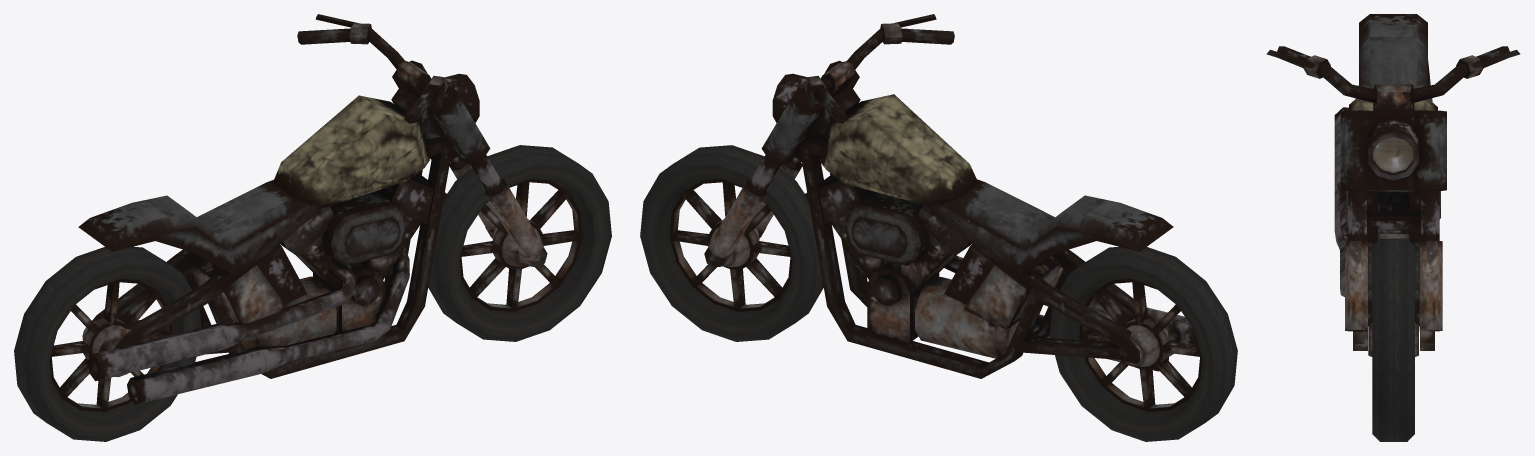
The model's file is ps2_styled_old_motorcycle.glb.
The picture shows the model from 3 angles, left to right: view 1: azimuth 30°, elevation 25°; view 2: azimuth 150°, elevation 25°; view 3: azimuth 270°, elevation 25°; orthographic projection.
Visible parts, largest first — view 1: final_0; view 2: final_0; view 3: final_0.
Boxes of the visible parts, left/top/right/bottom form: final_0: left=14, top=14, right=611, bottom=441; final_0: left=640, top=14, right=1237, bottom=441; final_0: left=1266, top=14, right=1520, bottom=441.
Bounding box in the file's own units: 2.49 × 1.27 × 0.9238.
1 material, 1 textured.
